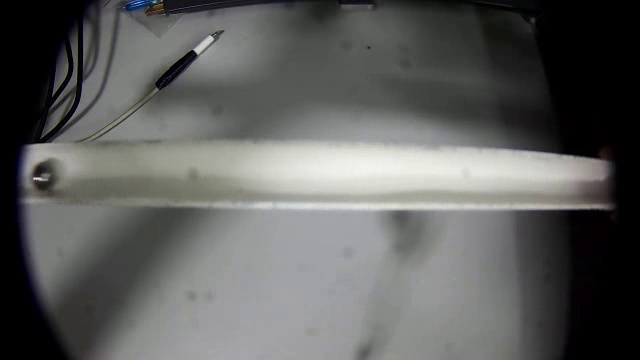gangzhu: (20, 149, 59, 194)
